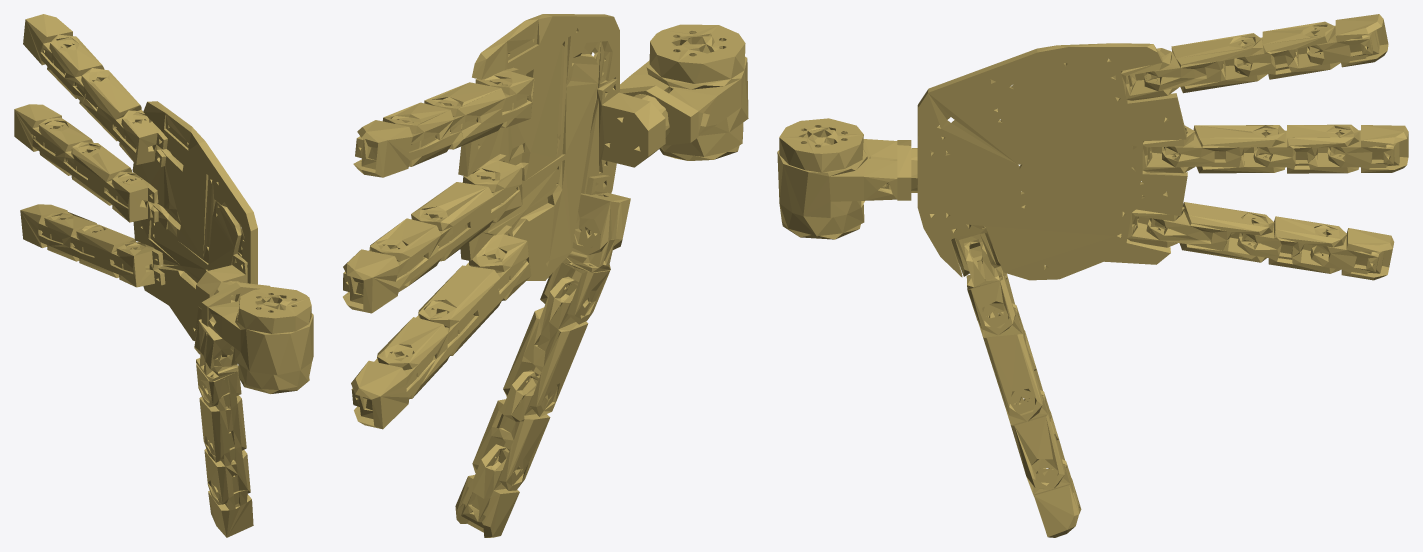
File: r_wrist_flection.dae
3 renders of one model, left to right at view 1: azimuth 30°, elevation 25°; view 2: azimuth 150°, elevation 25°; view 3: azimuth 270°, elevation 25°, orthographic. The views are drawn at different scales.
Parts seen in each view (by area): view 1: M7R; view 2: M7R; view 3: M7R.
Boxes of the visible parts, x1,y1,x2,y2 form: M7R: [14, 14, 313, 537]; M7R: [343, 14, 748, 537]; M7R: [777, 14, 1408, 537].
Size of the model in its own units: 0.0533 by 0.2264 by 0.1928.
